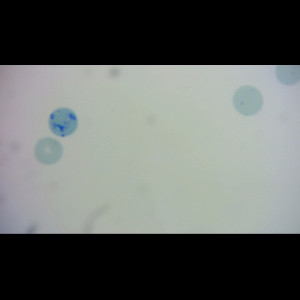aggregate reticulocyte: (48, 107, 78, 138)
erythrocyte: (34, 137, 64, 166)
punctate reticulocyte: (231, 84, 264, 117)
